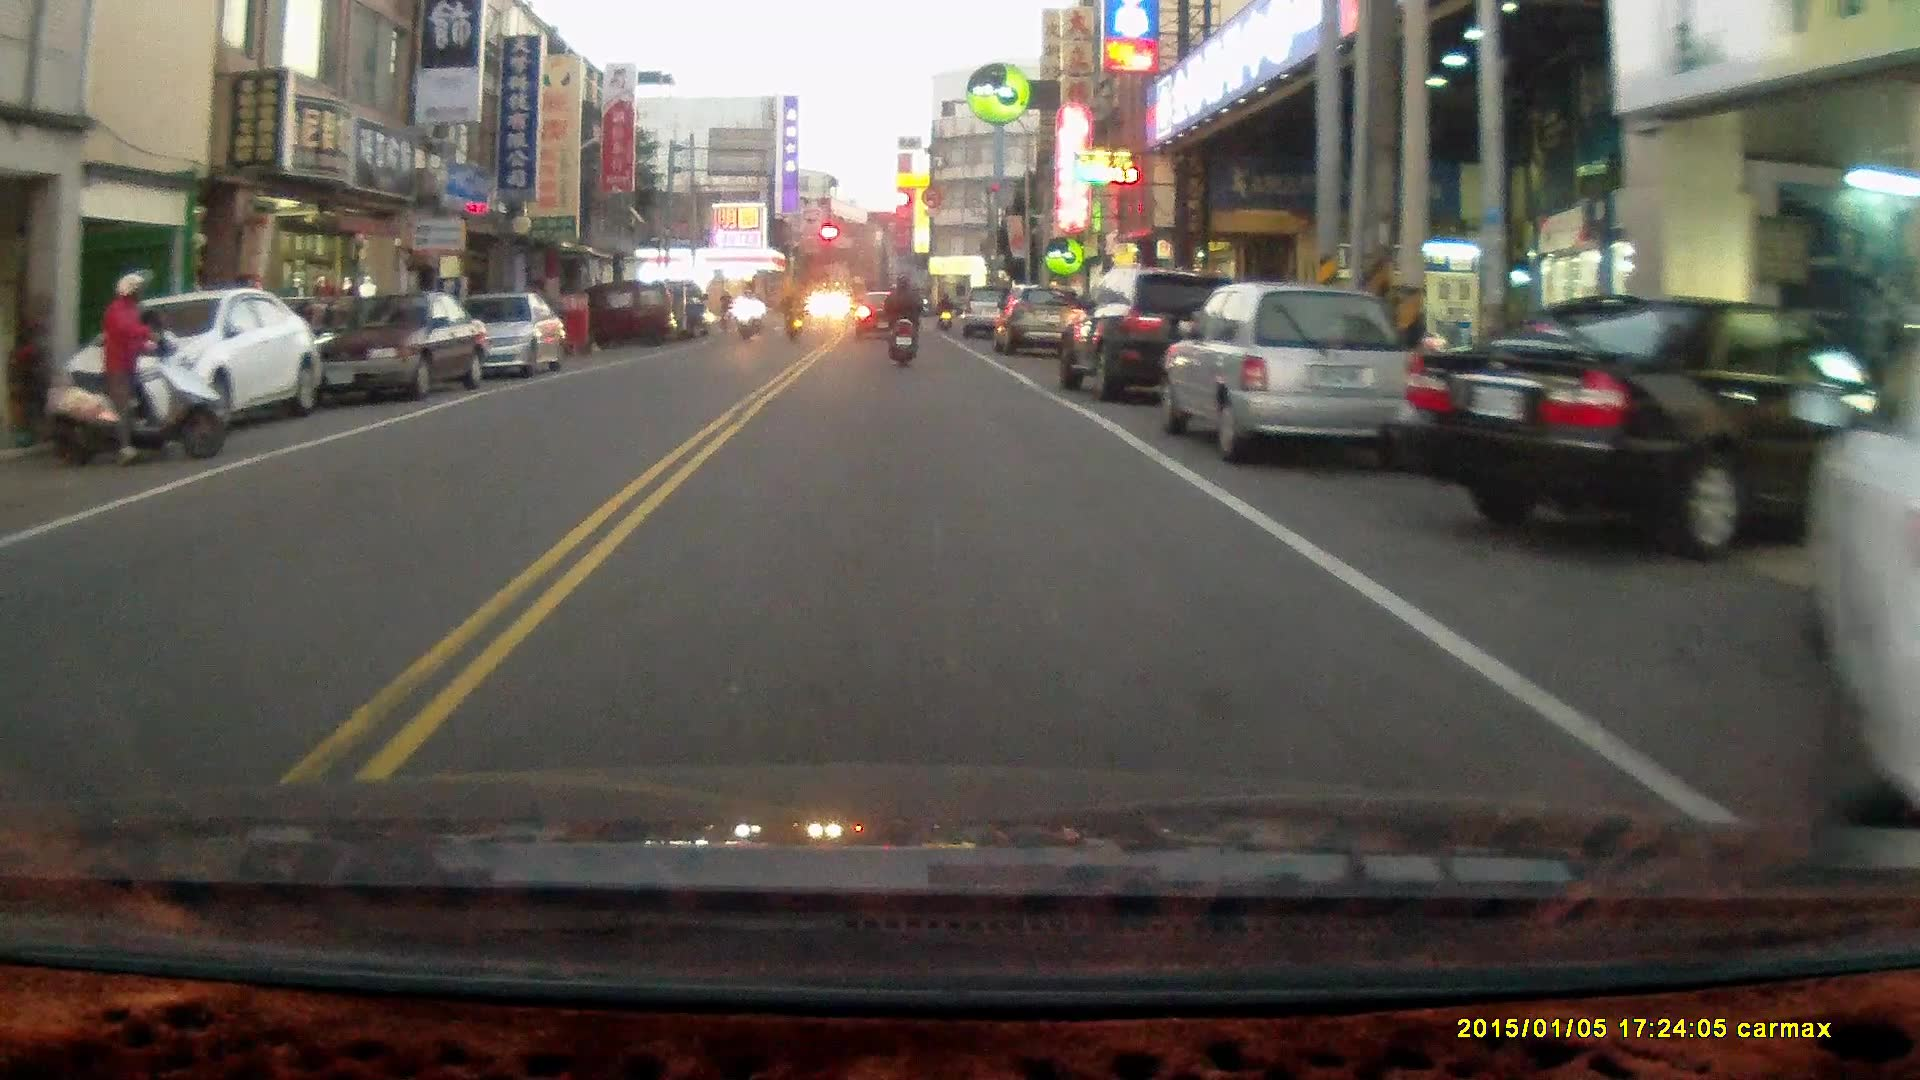rider: (49, 269, 231, 468), (882, 270, 923, 370), (779, 286, 807, 347), (736, 290, 760, 344), (714, 287, 734, 340), (931, 290, 953, 334)
vehicle: (1398, 298, 1880, 573), (1156, 292, 1413, 468), (39, 287, 324, 440), (1808, 412, 1920, 783), (1052, 267, 1264, 408), (292, 296, 484, 409), (443, 293, 568, 383), (999, 289, 1076, 363), (592, 288, 674, 352)
